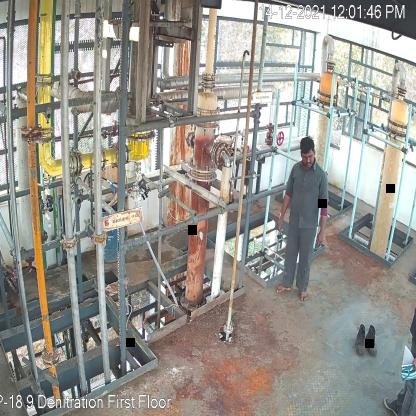no_shoes: (274, 284, 291, 294), (297, 290, 308, 304)
shoes: (354, 323, 369, 357), (366, 326, 379, 356)
